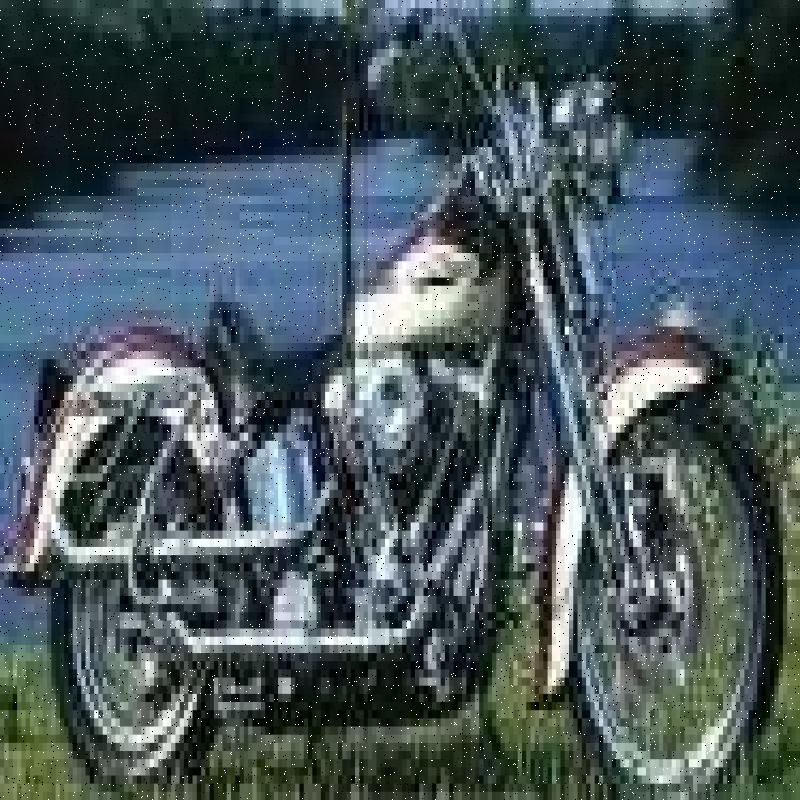bike: (18, 18, 780, 789)
